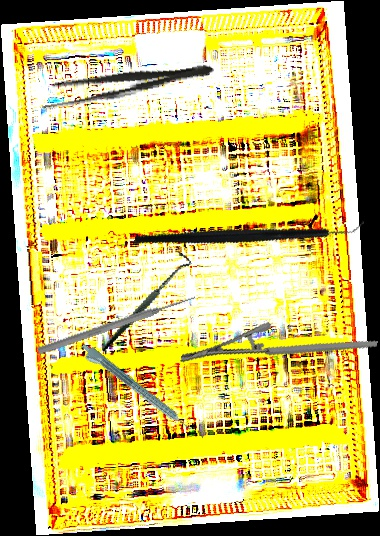Chopper: (132, 150, 367, 311)
Dressing Forceps: (37, 54, 217, 114)
Handpiece: (76, 341, 194, 438)
Hook Surgical: (79, 249, 210, 352)
Needle Holder: (179, 293, 379, 410)
Pusher: (36, 292, 198, 357)
